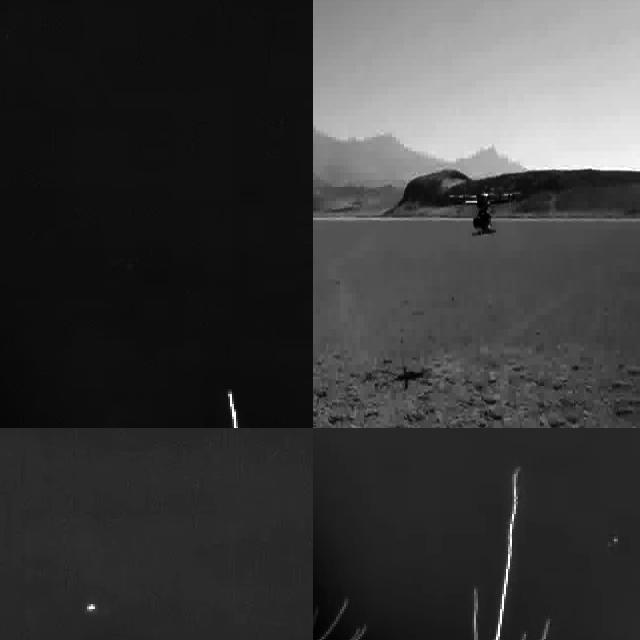0: (605, 528, 631, 560), (121, 256, 141, 280)
1: (81, 596, 109, 626)
drone: (451, 192, 520, 236)
